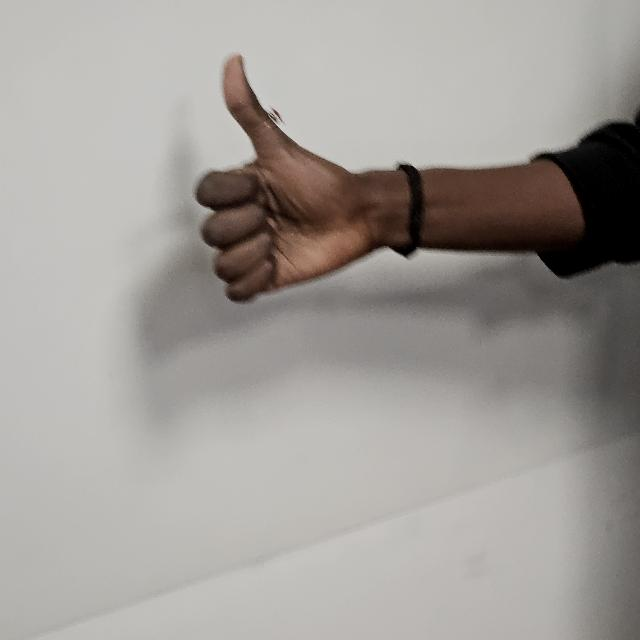Start: (196, 48, 412, 330)
